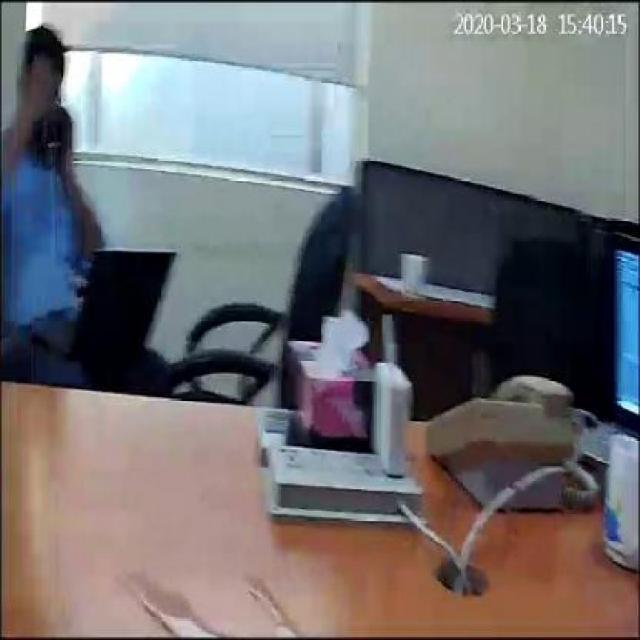spill: (138, 589, 231, 637), (246, 579, 300, 636)
